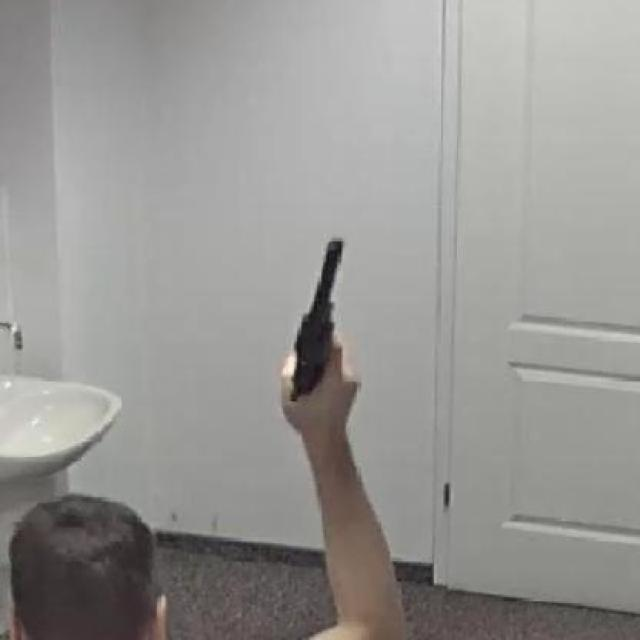gun: (288, 235, 364, 410)
